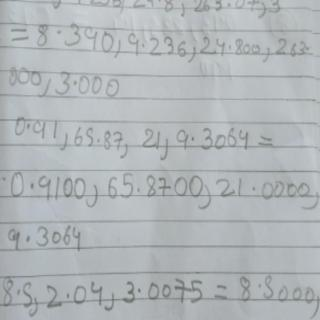.: (23, 233, 31, 242), (28, 180, 35, 190), (135, 186, 141, 193), (190, 135, 196, 141), (250, 185, 256, 191), (96, 137, 101, 144)
0: (9, 170, 25, 199), (188, 174, 204, 199), (172, 176, 188, 197), (73, 176, 86, 199), (272, 180, 285, 199), (62, 176, 74, 196), (261, 181, 274, 199)
1: (236, 176, 243, 200), (54, 174, 60, 201), (155, 129, 162, 149), (52, 119, 58, 139)
2: (44, 283, 63, 308), (213, 177, 235, 197), (142, 128, 156, 148)
3: (123, 279, 136, 304), (35, 225, 49, 248), (201, 127, 213, 151)
5: (121, 171, 135, 199), (85, 126, 95, 148)
6: (107, 175, 119, 199), (226, 126, 238, 148), (73, 124, 83, 147)
7: (157, 176, 171, 197), (112, 128, 124, 150)
8: (145, 173, 157, 197), (102, 129, 112, 150)
9: (6, 227, 23, 249), (37, 175, 51, 199), (32, 119, 47, 140), (175, 129, 188, 150)
